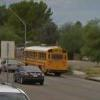Bus: (23, 41, 70, 72)
